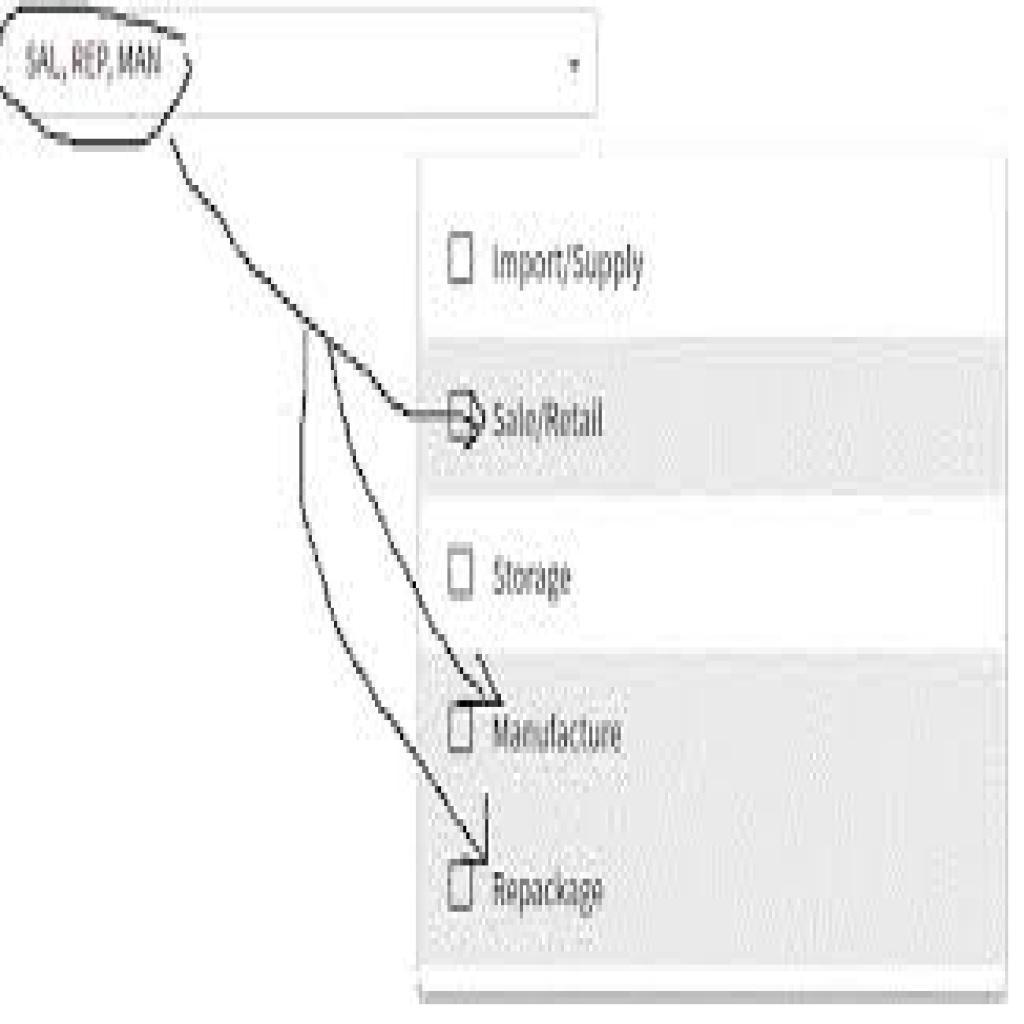checkbox: (449, 231, 475, 285), (449, 861, 475, 914), (448, 549, 472, 601), (448, 701, 472, 752)
label: (489, 238, 651, 298), (488, 710, 632, 760), (494, 871, 606, 923), (492, 548, 576, 615)
